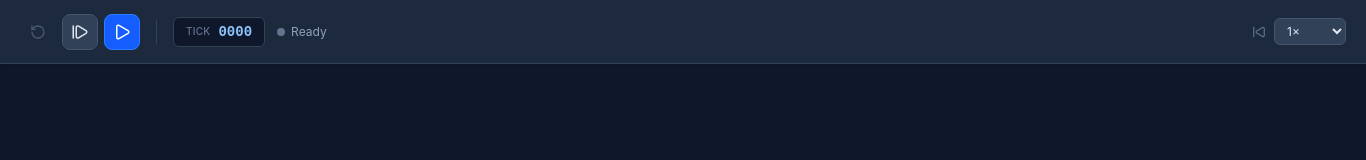
Test case: ControlBar › Reset becomes enabled after simulation starts and returns tick to 0
The image size is (1366, 160).
Click the button with test id "btn-step" at coordinates (80, 32), box [62,14,98,50]
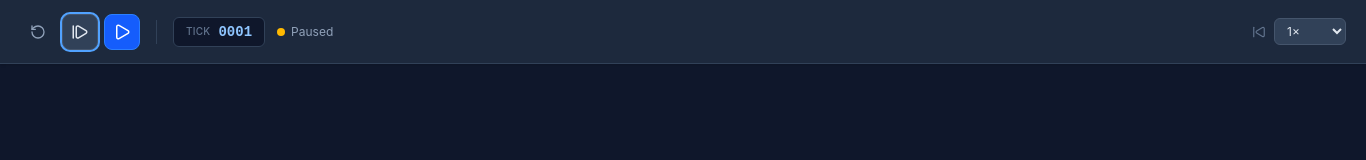
expect the text with test id "tick-display" reads "0001": met, box [218,24,252,40]
Click the button with test id "btn-reset" at coordinates (38, 32), box [20,14,56,50]
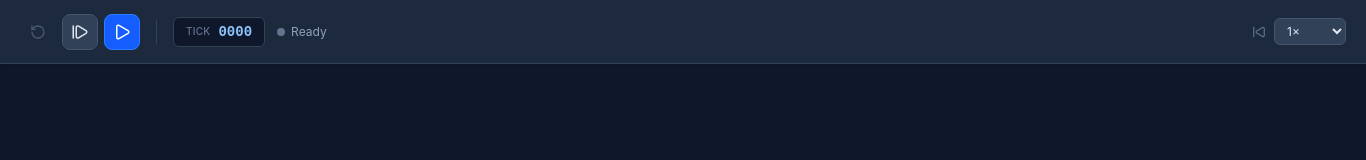
expect the text with test id "tick-display" reads "0000": met, box [218,24,252,40]
